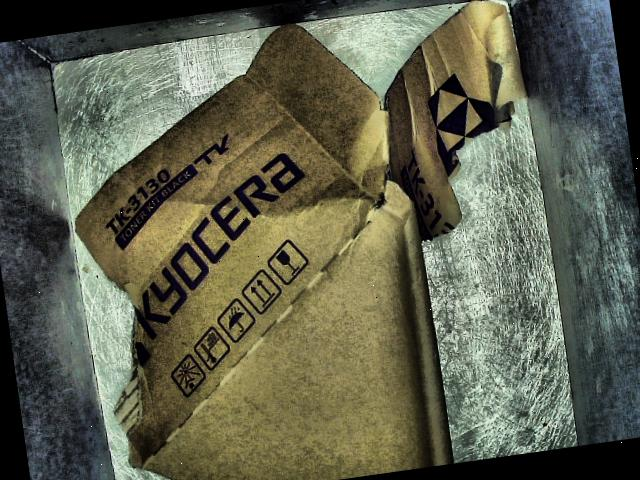Paper: (50, 0, 593, 480)
